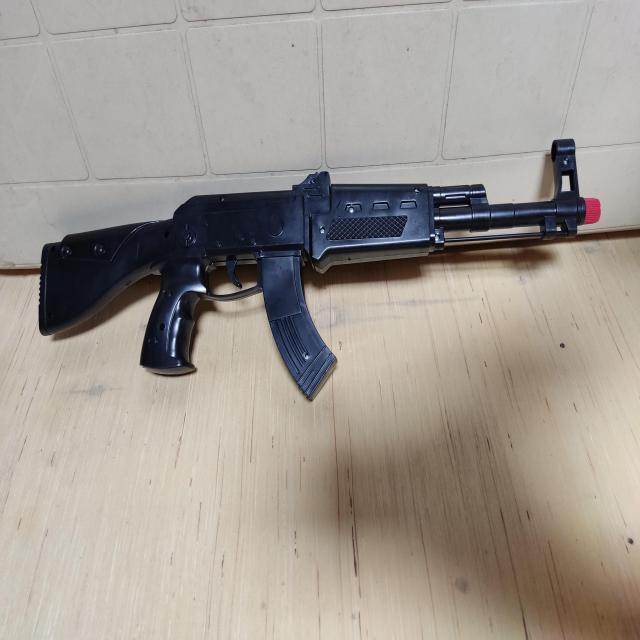rifle: (31, 122, 604, 409)
